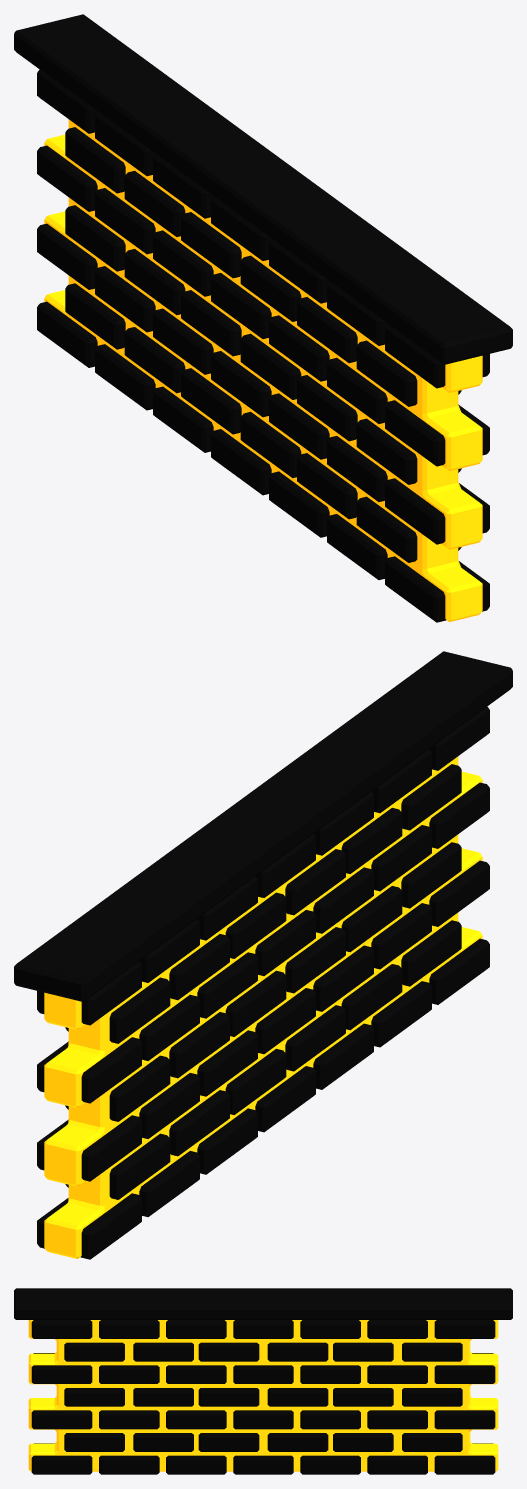
Rendered from Lvl 3 FireWall.fbx.
3 renders of one model, top to bottom at view 1: azimuth 30°, elevation 25°; view 2: azimuth 150°, elevation 25°; view 3: azimuth 270°, elevation 25°, orthographic. The views are drawn at different scales.
Visible parts, largest first — view 1: Firewall; view 2: Firewall; view 3: Firewall.
Part boxes in pixels (left/top/right/bottom): Firewall: left=14, top=14, right=512, bottom=622; Firewall: left=14, top=651, right=512, bottom=1259; Firewall: left=14, top=1288, right=512, bottom=1474.
Bounding box in the file's own units: 0.4375 × 1.71 × 4.55.
